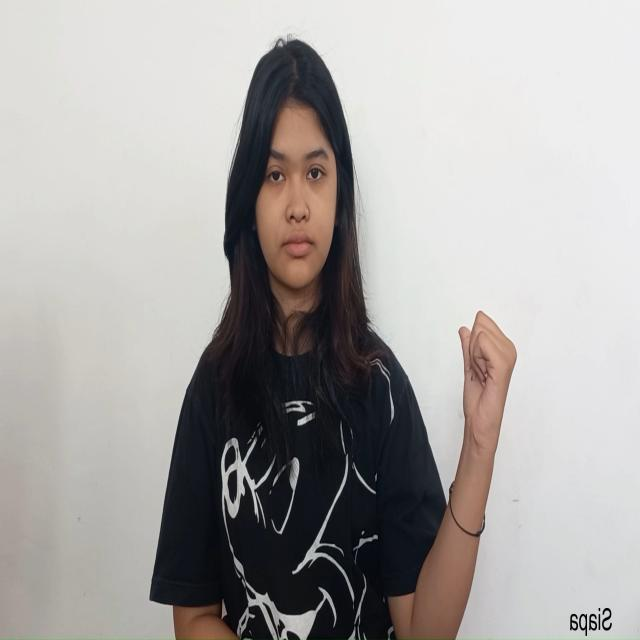Siapa -BISINDO-: (458, 307, 518, 462)
